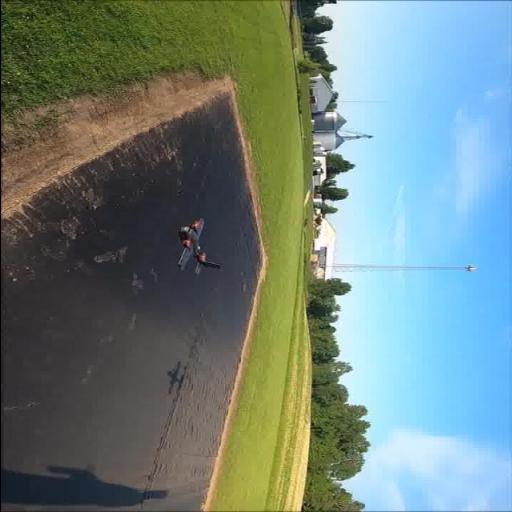uav: (164, 216, 230, 276)
